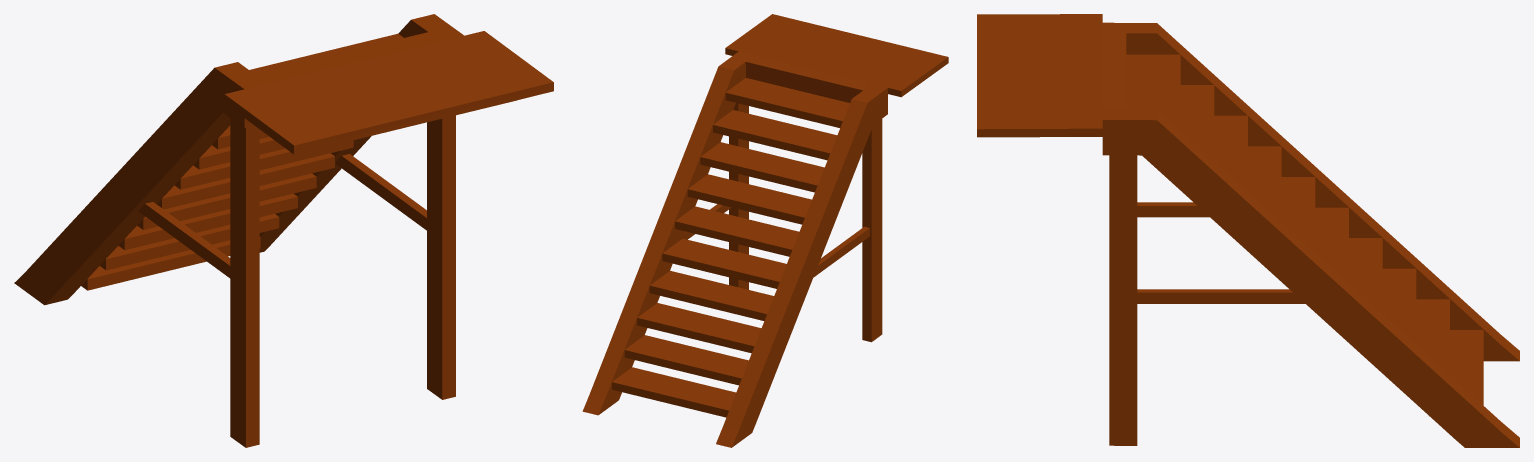
File: normalStair.fbx
The picture shows the model from 3 angles, left to right: view 1: azimuth 30°, elevation 25°; view 2: azimuth 150°, elevation 25°; view 3: azimuth 270°, elevation 25°; orthographic projection. The views are drawn at different scales.
Visible parts, largest first — view 1: Stair; view 2: Stair; view 3: Stair.
Boxes of the visible parts, left/top/right/bottom form: Stair: left=14, top=14, right=553, bottom=447; Stair: left=582, top=14, right=948, bottom=447; Stair: left=977, top=14, right=1519, bottom=447.
Size of the model in its own units: 300 by 400 by 600.
